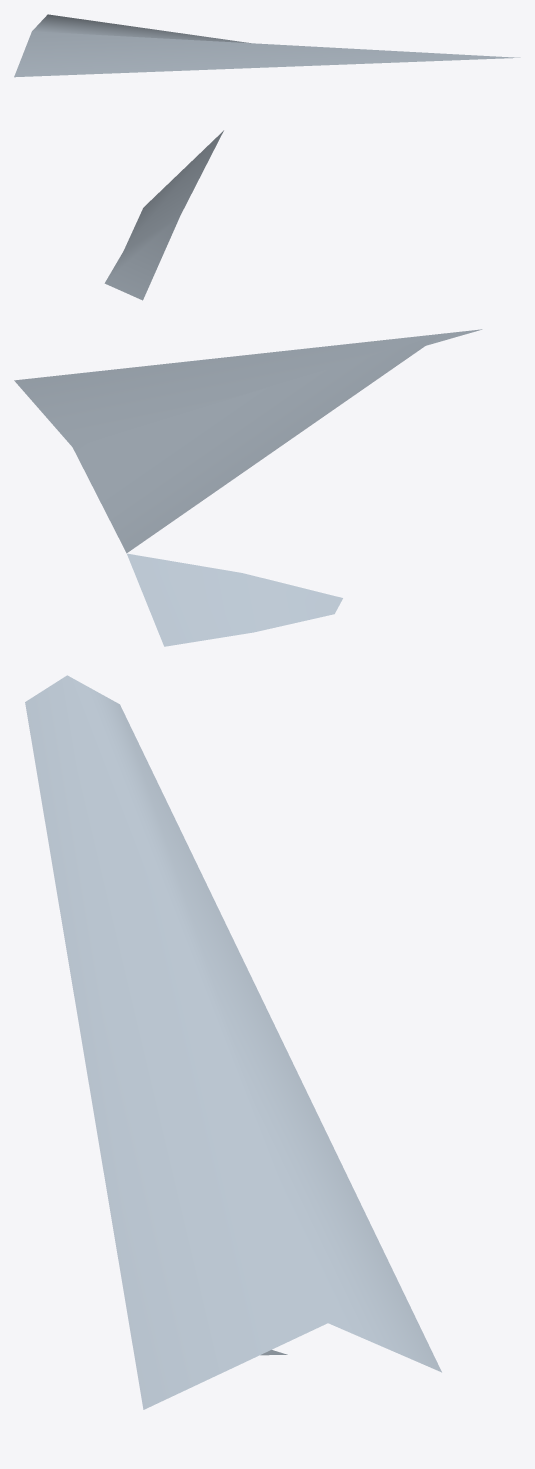
The model's file is iliolumbar-ligament-l.glb.
3 renders of one model, top to bottom at view 1: azimuth 30°, elevation 25°; view 2: azimuth 150°, elevation 25°; view 3: azimuth 270°, elevation 25°, orthographic. The views are drawn at different scales.
Parts seen in each view (by area): view 1: Iliolumbar ligament.l; view 2: Iliolumbar ligament.l; view 3: Iliolumbar ligament.l.
Part boxes in pixels (x1,y1,x2,y2): Iliolumbar ligament.l: (14, 14, 520, 300); Iliolumbar ligament.l: (14, 329, 482, 646); Iliolumbar ligament.l: (25, 675, 441, 1409).
Size of the model in its own units: 0.0472 by 0.0272 by 0.0207.
